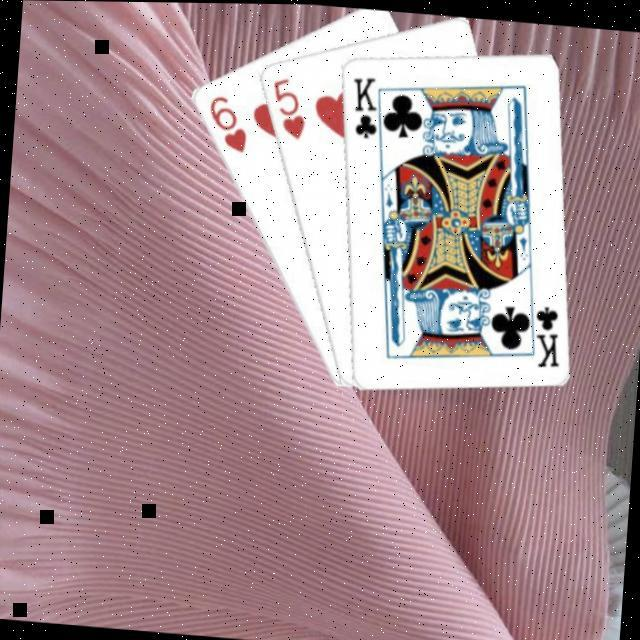5H: (266, 72, 310, 143)
6H: (202, 90, 252, 156)
KC: (521, 293, 566, 371), (346, 72, 390, 148)
